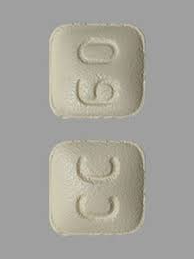Square: (49, 23, 145, 119), (49, 140, 145, 235)
